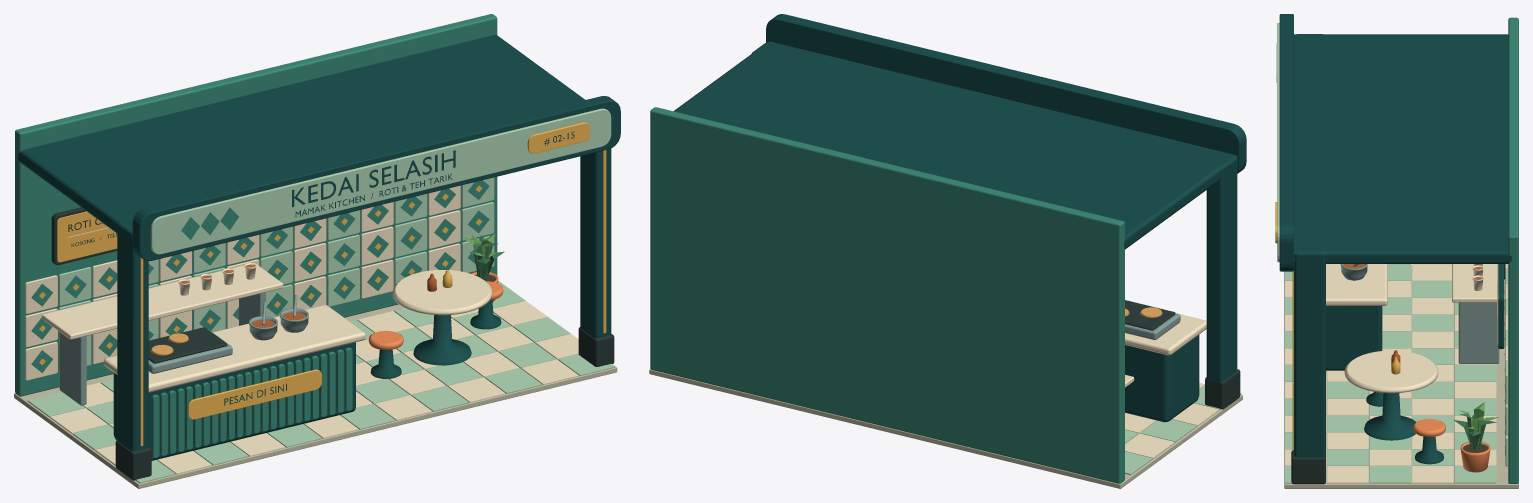
3 renders of one model, left to right at view 1: azimuth 30°, elevation 25°; view 2: azimuth 150°, elevation 25°; view 3: azimuth 270°, elevation 25°, orthographic. The views are drawn at different scales.
Parts seen in each view (by area): view 1: Kedai Selasih | Mamak Frontage - Structure, Kedai Selasih | Mamak Frontage - Graphics, Kedai Selasih | Mamak Frontage - Floor Tiles, Kedai Selasih | Mamak Frontage - Tilework, Kedai Selasih | Mamak Frontage - Counter, Kedai Selasih | Mamak Frontage - Kitchen, Kedai Selasih | Mamak Frontage - Dining, Kedai Selasih | Mamak Frontage - Trim, Kedai Selasih | Mamak Frontage - Planting; view 2: Kedai Selasih | Mamak Frontage - Structure, Kedai Selasih | Mamak Frontage - Graphics, Kedai Selasih | Mamak Frontage - Counter, Kedai Selasih | Mamak Frontage - Floor Tiles, Kedai Selasih | Mamak Frontage - Kitchen; view 3: Kedai Selasih | Mamak Frontage - Structure, Kedai Selasih | Mamak Frontage - Floor Tiles, Kedai Selasih | Mamak Frontage - Dining, Kedai Selasih | Mamak Frontage - Counter, Kedai Selasih | Mamak Frontage - Graphics, Kedai Selasih | Mamak Frontage - Kitchen, Kedai Selasih | Mamak Frontage - Planting, Kedai Selasih | Mamak Frontage - Tilework, Kedai Selasih | Mamak Frontage - Trim.
Boxes of the visible parts, x1,y1,x2,y2 form: Kedai Selasih | Mamak Frontage - Structure: (14, 14, 617, 488); Kedai Selasih | Mamak Frontage - Graphics: (31, 96, 620, 419); Kedai Selasih | Mamak Frontage - Floor Tiles: (27, 284, 615, 483); Kedai Selasih | Mamak Frontage - Tilework: (25, 177, 494, 380); Kedai Selasih | Mamak Frontage - Counter: (104, 305, 365, 460); Kedai Selasih | Mamak Frontage - Kitchen: (42, 263, 308, 405); Kedai Selasih | Mamak Frontage - Dining: (368, 270, 503, 378); Kedai Selasih | Mamak Frontage - Trim: (140, 150, 606, 446); Kedai Selasih | Mamak Frontage - Planting: (462, 234, 504, 301); Kedai Selasih | Mamak Frontage - Structure: (649, 41, 1242, 488); Kedai Selasih | Mamak Frontage - Graphics: (766, 14, 1246, 173); Kedai Selasih | Mamak Frontage - Counter: (1125, 313, 1206, 422); Kedai Selasih | Mamak Frontage - Floor Tiles: (1125, 383, 1241, 475); Kedai Selasih | Mamak Frontage - Kitchen: (1125, 300, 1180, 387); Kedai Selasih | Mamak Frontage - Structure: (1284, 17, 1518, 488); Kedai Selasih | Mamak Frontage - Floor Tiles: (1285, 264, 1496, 483); Kedai Selasih | Mamak Frontage - Dining: (1344, 350, 1445, 464); Kedai Selasih | Mamak Frontage - Counter: (1326, 264, 1387, 370); Kedai Selasih | Mamak Frontage - Graphics: (1275, 14, 1505, 455); Kedai Selasih | Mamak Frontage - Kitchen: (1340, 264, 1507, 363); Kedai Selasih | Mamak Frontage - Planting: (1453, 402, 1499, 472); Kedai Selasih | Mamak Frontage - Tilework: (1505, 264, 1507, 466); Kedai Selasih | Mamak Frontage - Trim: (1292, 270, 1293, 450).
Size of the model in its own units: 5.92 by 3.24 by 2.75.
